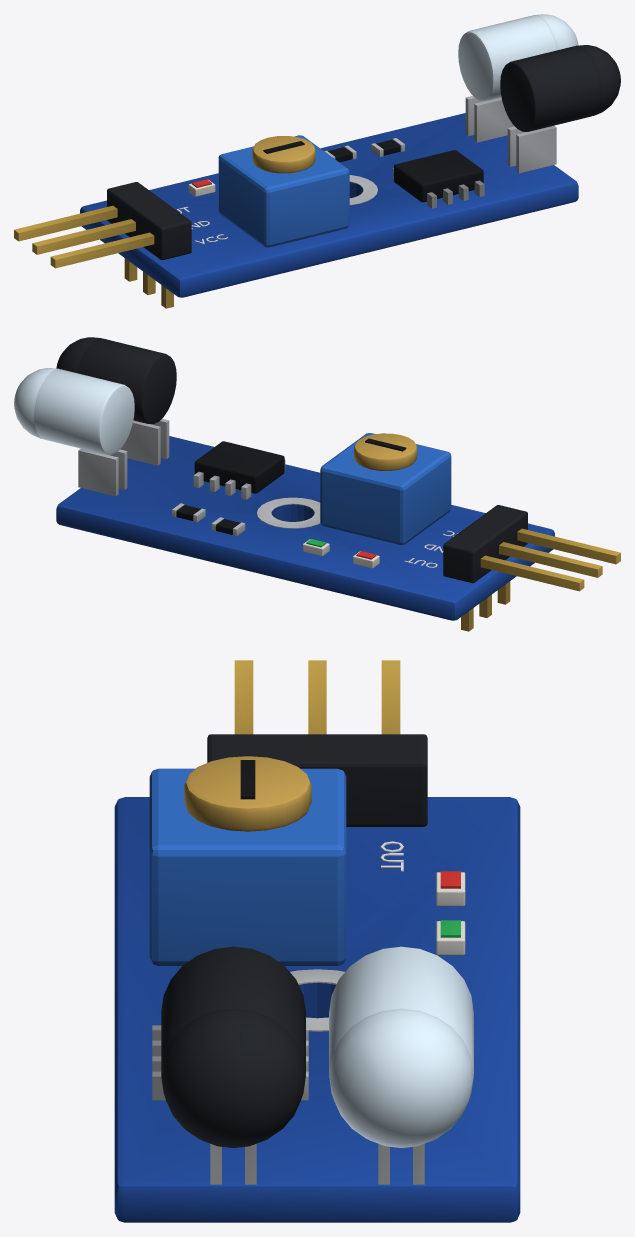
File: ir-obstacle.glb
3 views of the same model, one above another, from view 1: azimuth 30°, elevation 25°; view 2: azimuth 150°, elevation 25°; view 3: azimuth 270°, elevation 25° (orthographic). The views are drawn at different scales.
Parts seen in each view (by area): view 1: Board; view 2: Board; view 3: Board, LED_Obstacle.
Part boxes in pixels (x1,y1,x2,y2): Board: (14,14,620,308); Board: (14,337,620,631); Board: (114,660,520,1222); LED_Obstacle: (436,920,465,955).
Bounding box in the file's own units: 0.0447 × 0.0121 × 0.014.
